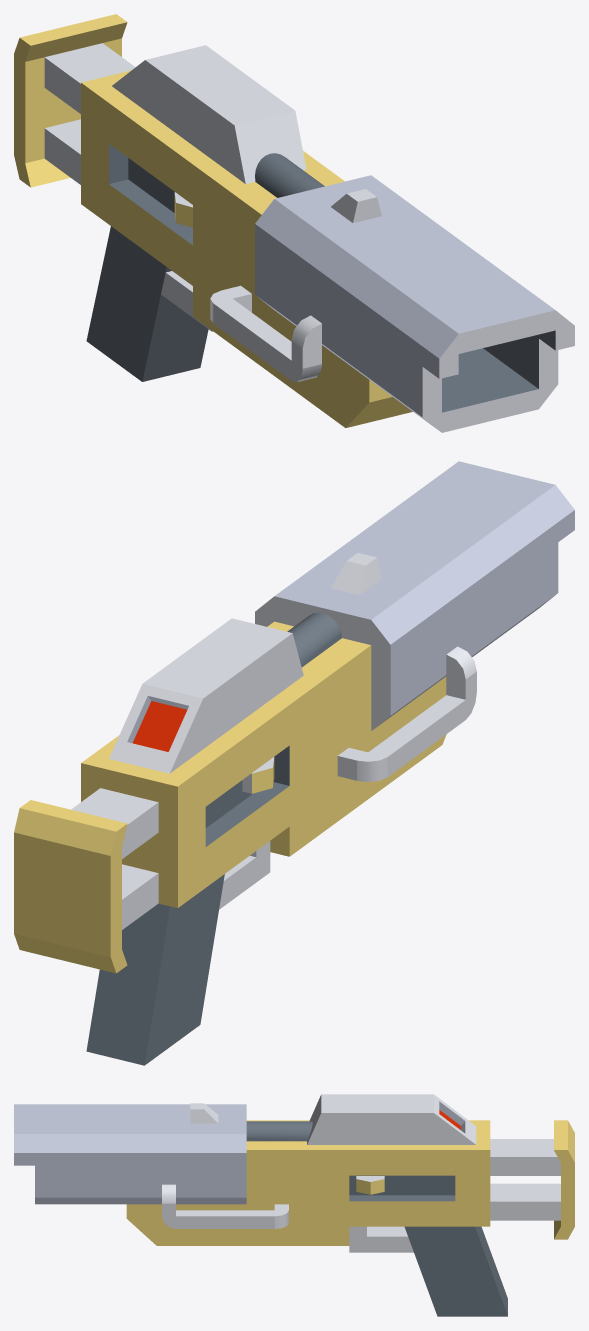
Rendered from BlasterG.glb.
3 renders of one model, top to bottom at view 1: azimuth 30°, elevation 25°; view 2: azimuth 150°, elevation 25°; view 3: azimuth 270°, elevation 25°, orthographic. The views are drawn at different scales.
Visible parts, largest first — view 1: blasterG; view 2: blasterG; view 3: blasterG.
Part boxes in pixels (<box>): blasterG: <box>14,14,574,432</box>; blasterG: <box>14,461,574,1065</box>; blasterG: <box>14,1094,574,1316</box>.
Size of the model in its own units: 0.18 by 0.32 by 0.7959.
